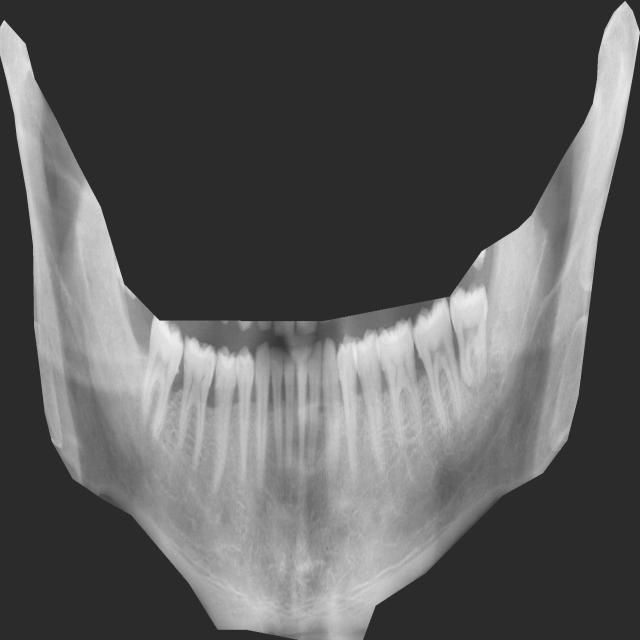mandibulamandibula: (0, 1, 640, 640)
